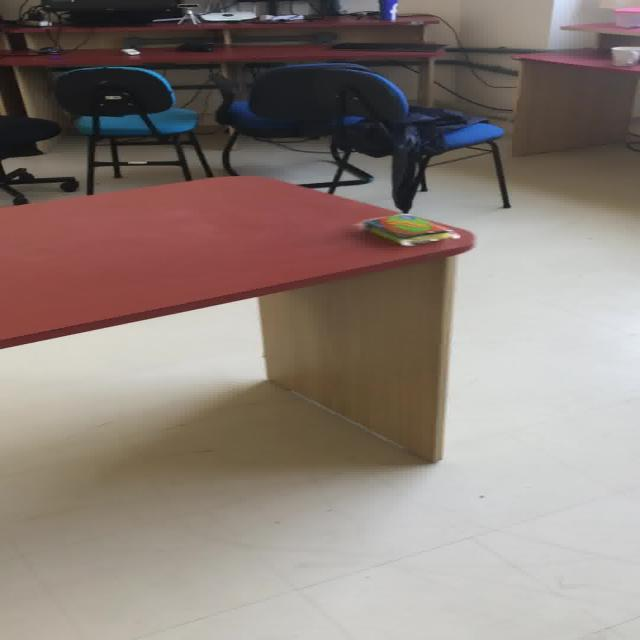sponge: (355, 213, 460, 246)
